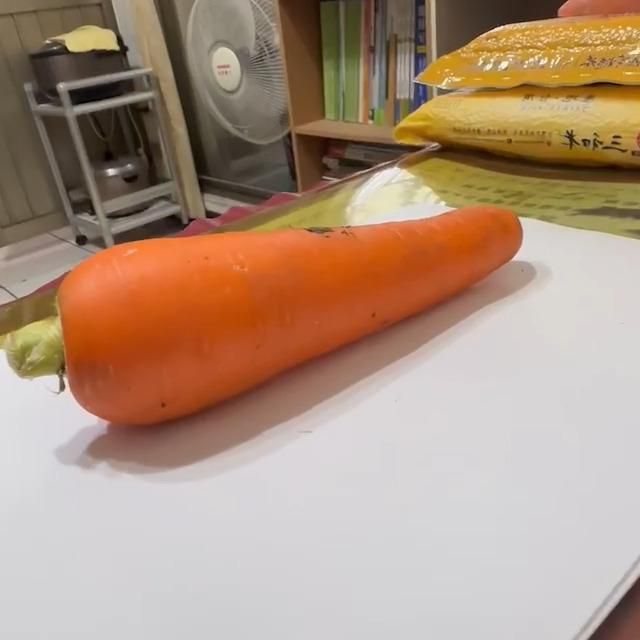carrot: (4, 202, 525, 433)
